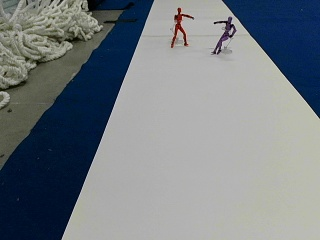pedestrian: (171, 7, 194, 47), (212, 16, 235, 54)
